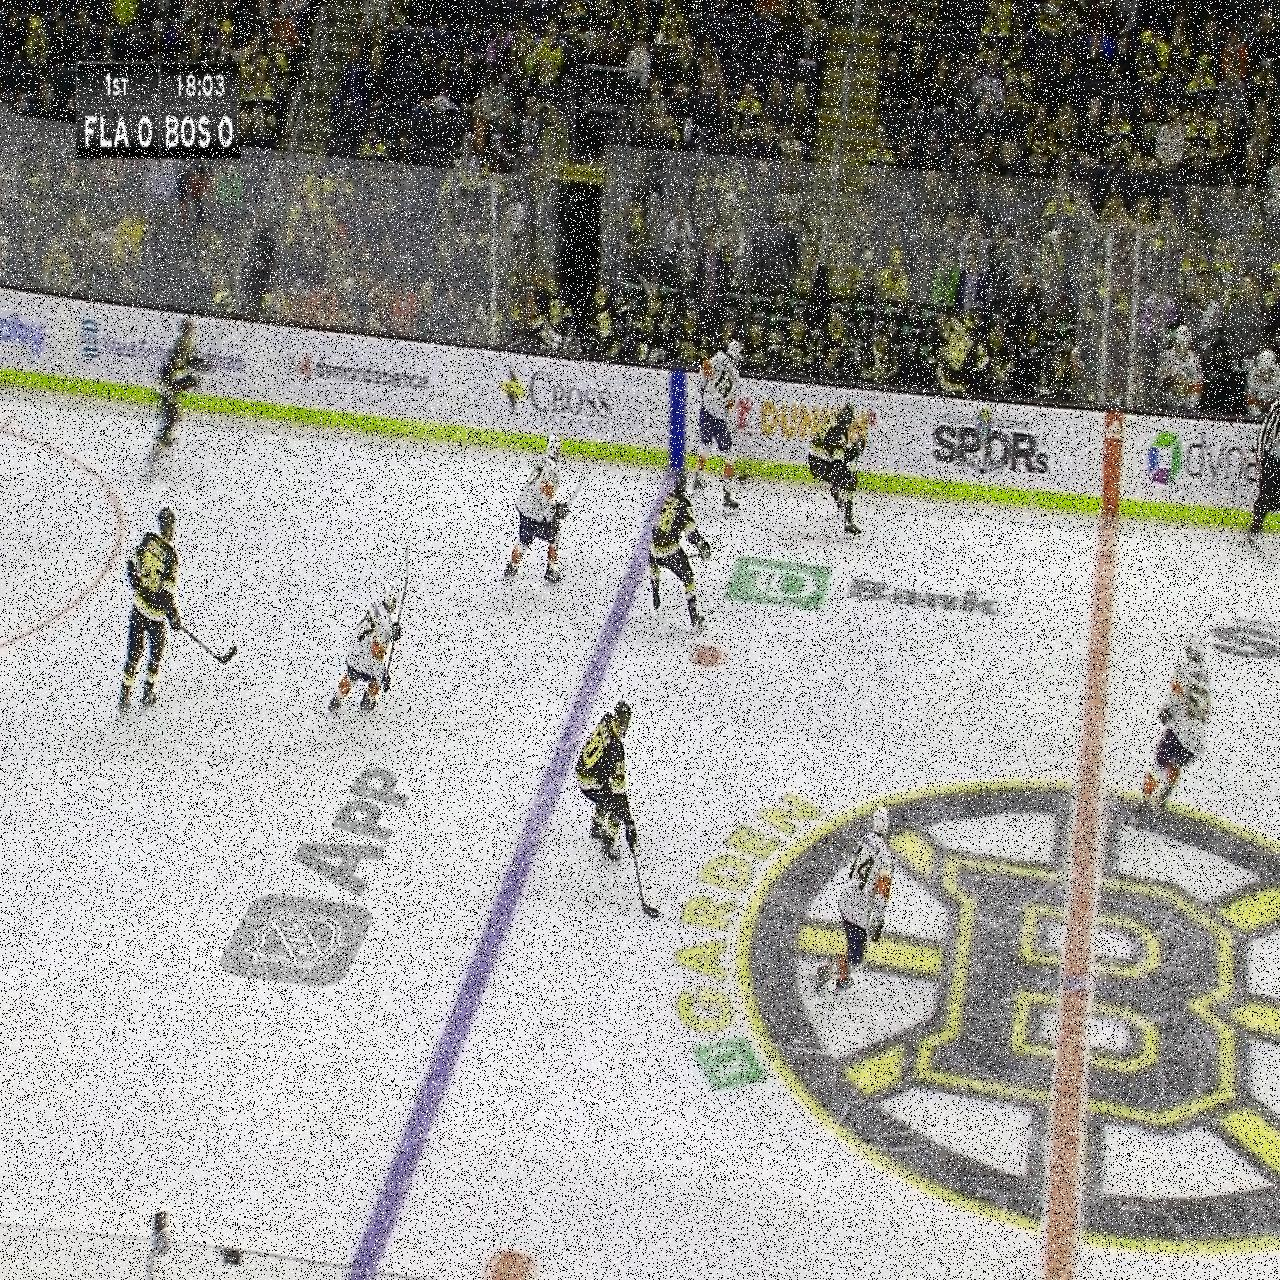Ad: (224, 751, 415, 996), (726, 543, 999, 629), (76, 306, 250, 390), (933, 403, 1055, 493), (731, 392, 878, 465), (501, 353, 615, 447), (1142, 420, 1275, 496), (284, 343, 437, 404), (1206, 598, 1279, 678), (0, 305, 52, 363)
